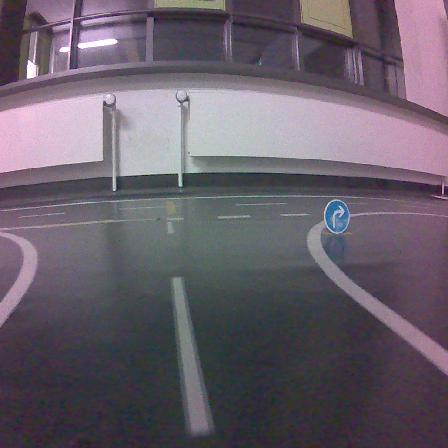RIGHT_TURN: (324, 200, 349, 233)
